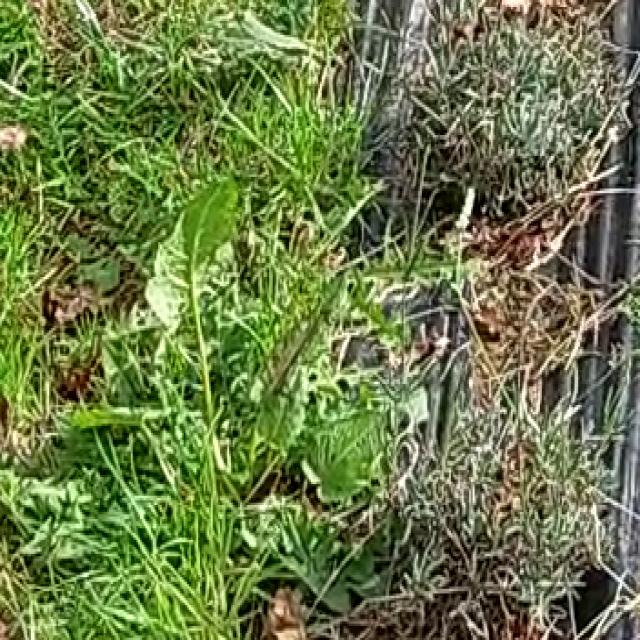organic waste: (38, 166, 386, 494)
